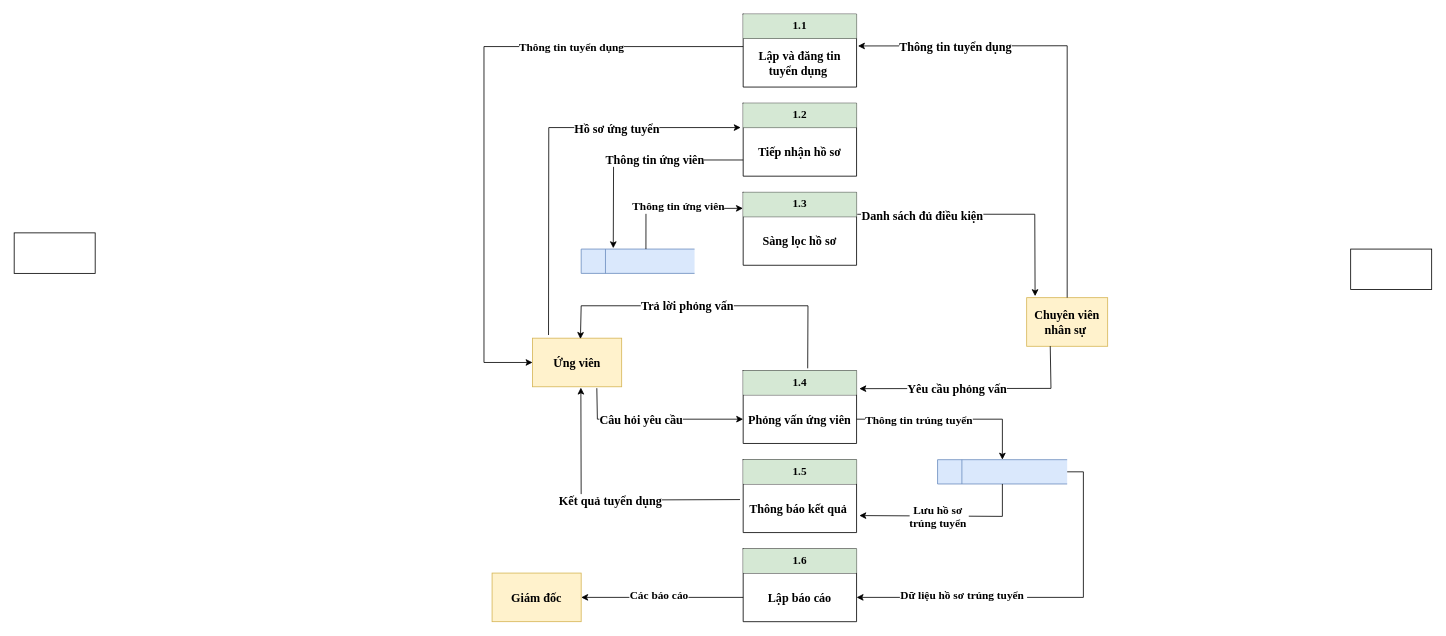
This 1446x636 diagram has some shape labels left out. Each missing label, with the box of its shape:
A Hồ sơ ứng viên: (580, 248, 695, 273)
B Hồ sơ trúng tuyển: (937, 459, 1067, 484)
